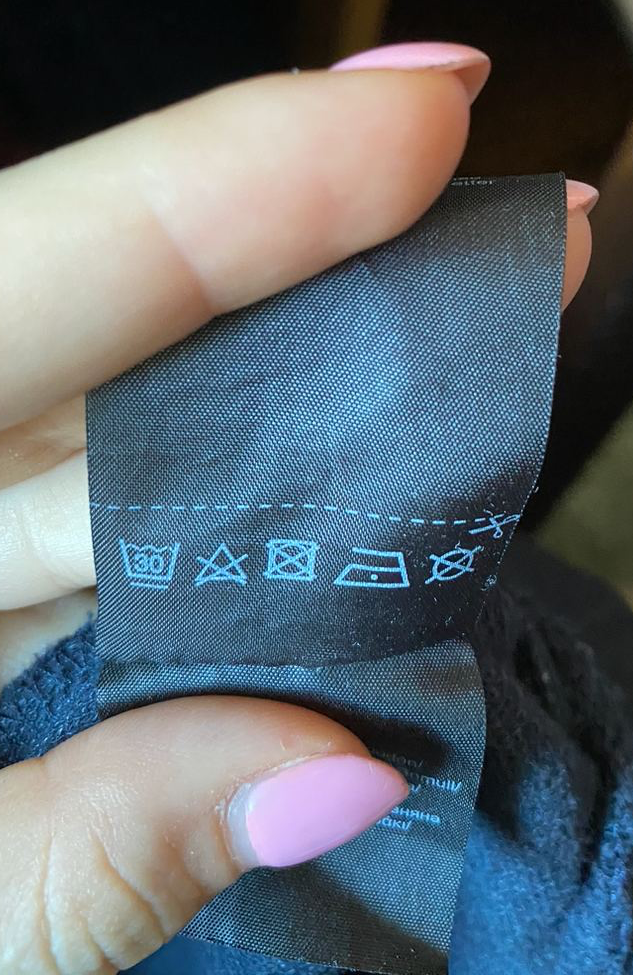do_not_bleach: (192, 539, 255, 591)
do_not_dry_clean: (420, 537, 492, 592)
do_not_tumble_drying: (260, 535, 326, 587)
ironing_at_low_temp: (331, 539, 417, 594)
wash_at_or_below_30_mild_fine_wash: (114, 532, 184, 594)
